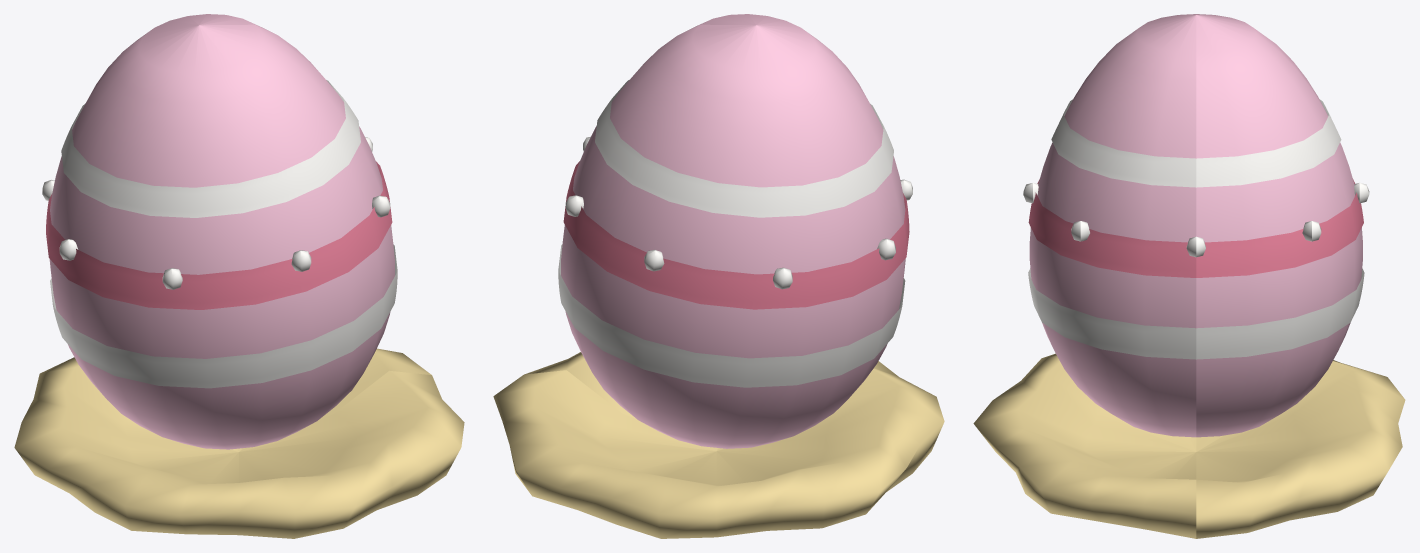
File: egg.glb
3 views of the same model, side by side, from view 1: azimuth 30°, elevation 25°; view 2: azimuth 150°, elevation 25°; view 3: azimuth 270°, elevation 25° (orthographic). The views are drawn at different scales.
Bounding box in the file's own units: 0.9291 × 1.07 × 0.9338.
